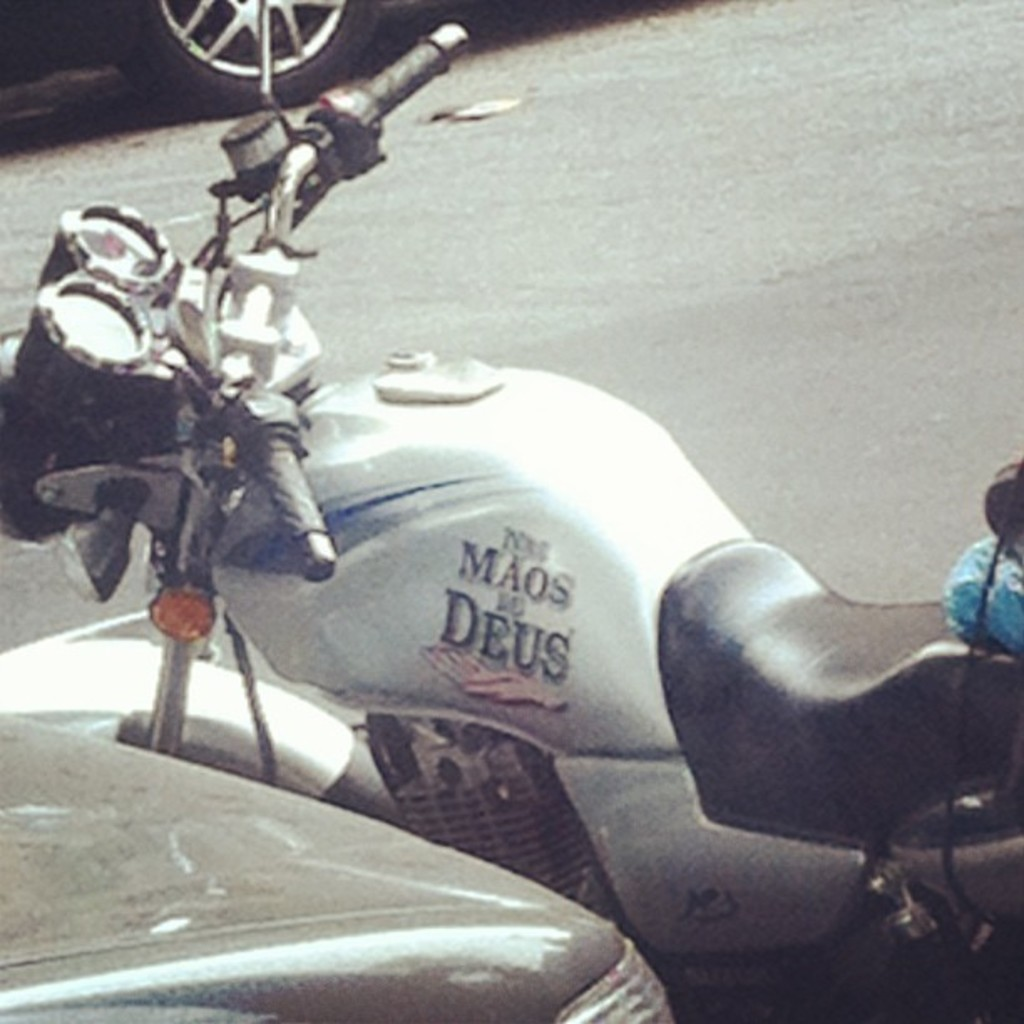Car: (0, 701, 675, 1022)
